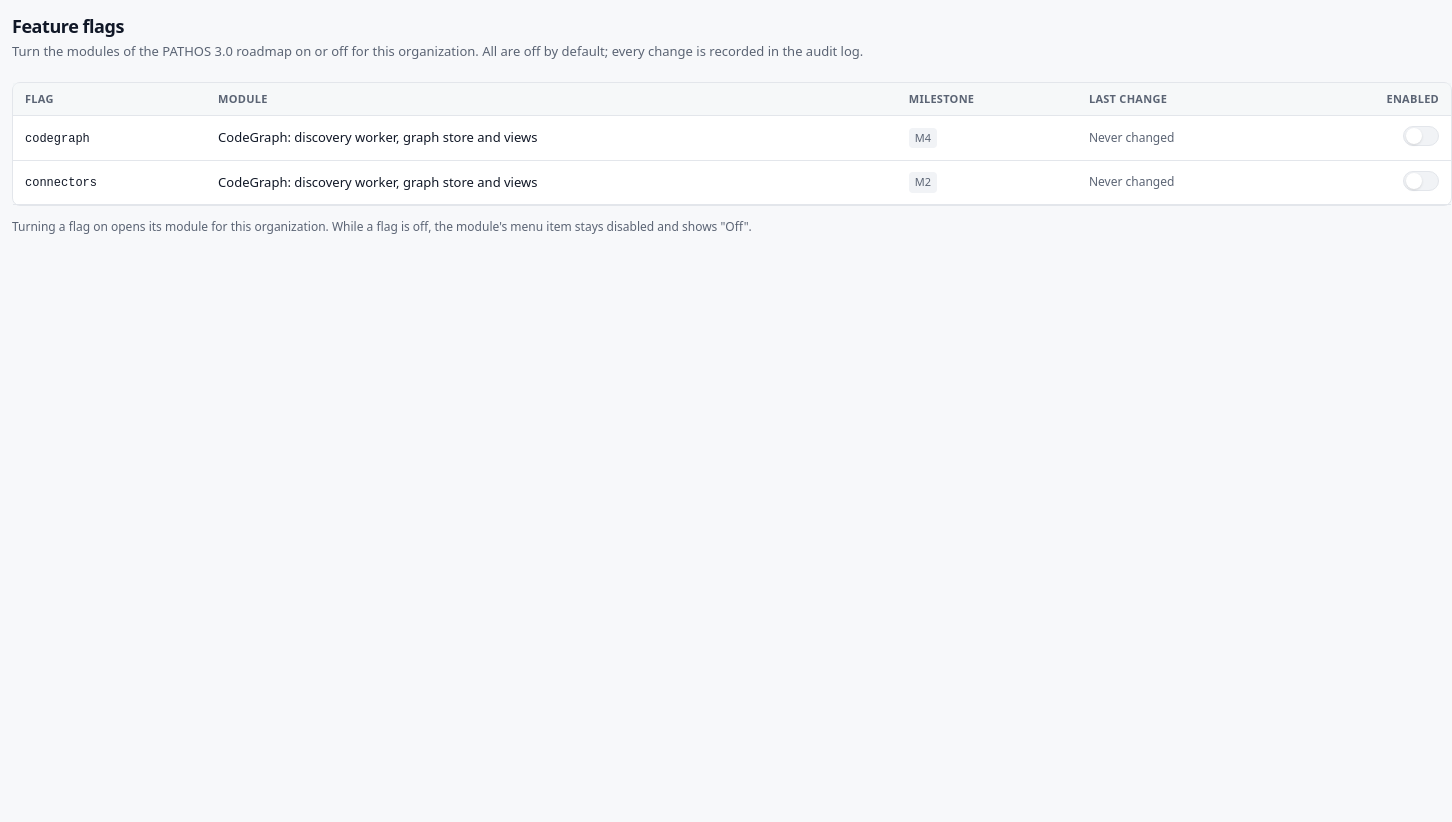
Test: feature flags page › lists flags and toggles one with PUT {flags}
The width and height of the screenshot is (1452, 822).
Check: the text "M4" is shown, box [909,128,937,148]
Step 1. Click the switch named "codegraph: off" → [1421, 136], box [1403,126,1439,146]
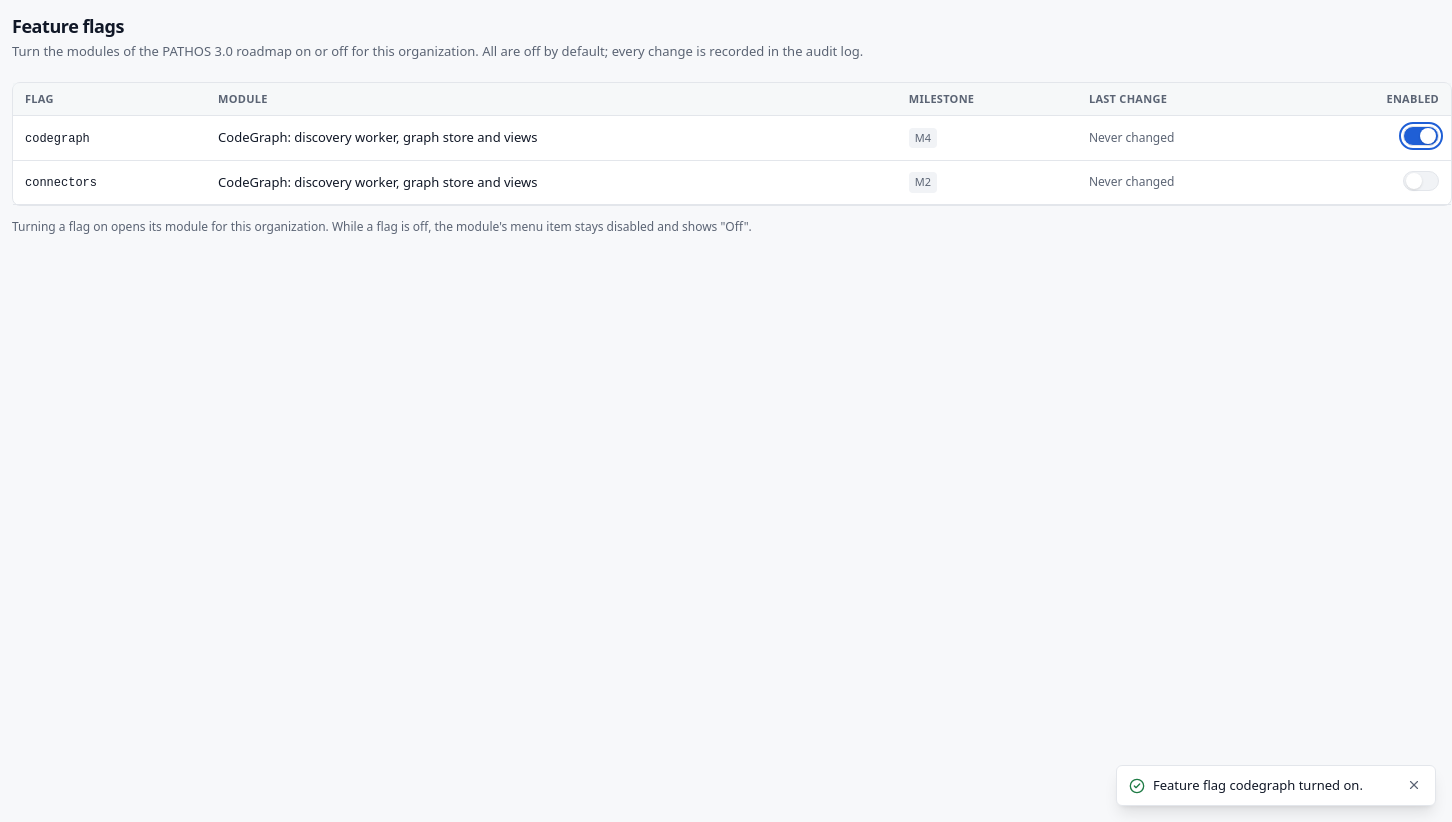
Check: the text "Feature flag codegraph turned on." is shown, box [1153,776,1397,795]
